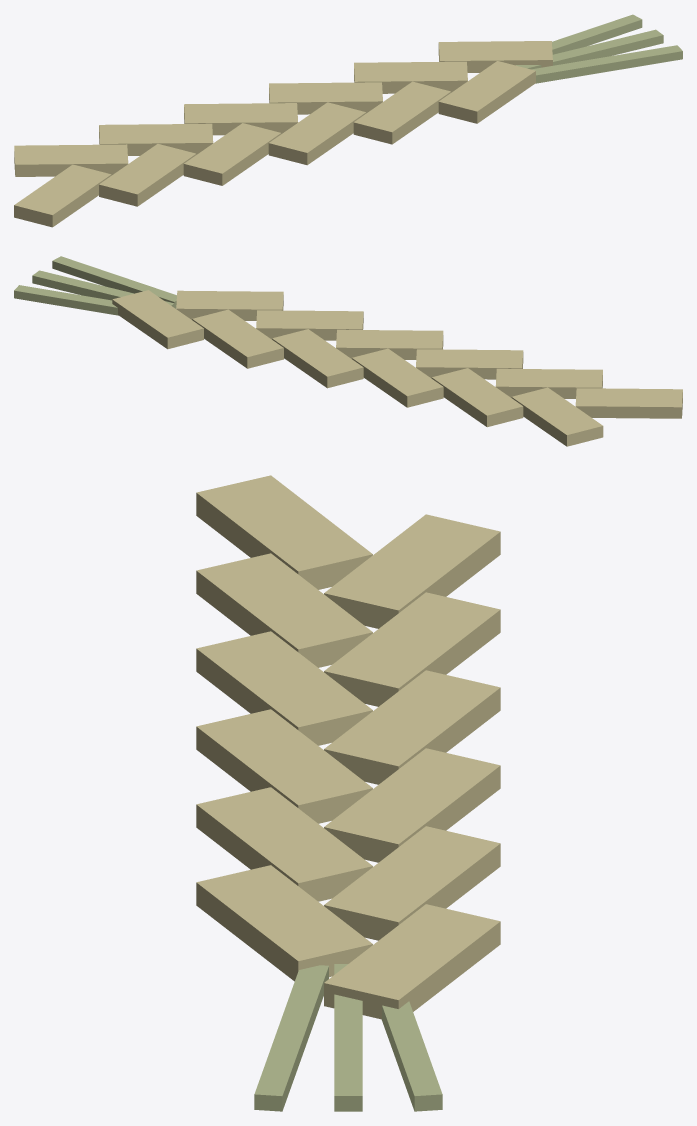
Rendered from prop-braid-blank.fbx.
3 views of the same model, one above another, from view 1: azimuth 30°, elevation 25°; view 2: azimuth 150°, elevation 25°; view 3: azimuth 270°, elevation 25° (orthographic). The views are drawn at different scales.
Visible parts, largest first — view 1: prop-braid-blank; view 2: prop-braid-blank; view 3: prop-braid-blank.
Boxes of the visible parts, x1=… form: prop-braid-blank: x1=14, y1=14, x2=682, y2=227; prop-braid-blank: x1=14, y1=256, x2=682, y2=446; prop-braid-blank: x1=196, y1=475, x2=500, y2=1111.
Size of the model in its own units: 102 by 1.9 by 21.46.
